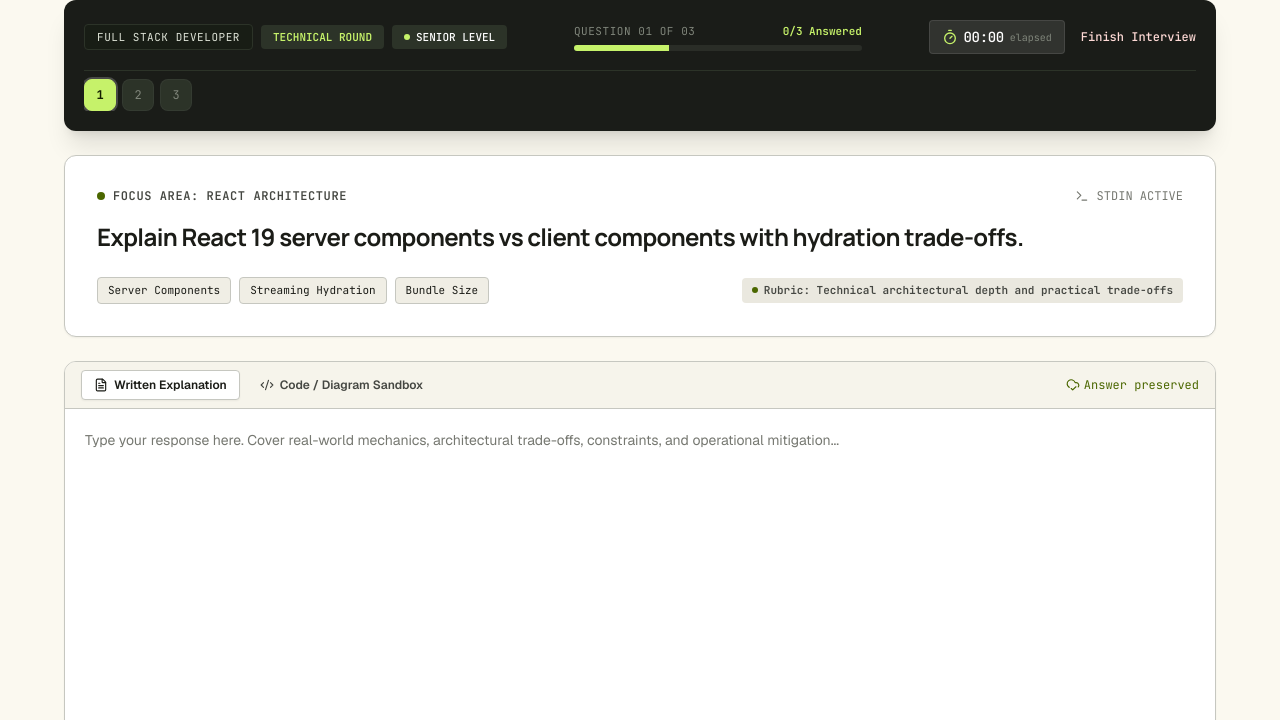
Scenario: TASK 2 & 5: Question Navigation & Text Diversity in InterviewArenaPage › allows direct jumping via numbered question buttons
Expected: the text "Focus Area: React Architecture" is shown, x1=113 y1=188 x2=347 y2=204
// Click button '3' in question selector strip
What coordinates should you click on to do the following:
click the button "3"
I would click on:
 (176, 95)
Its box is x1=160 y1=79 x2=192 y2=111.
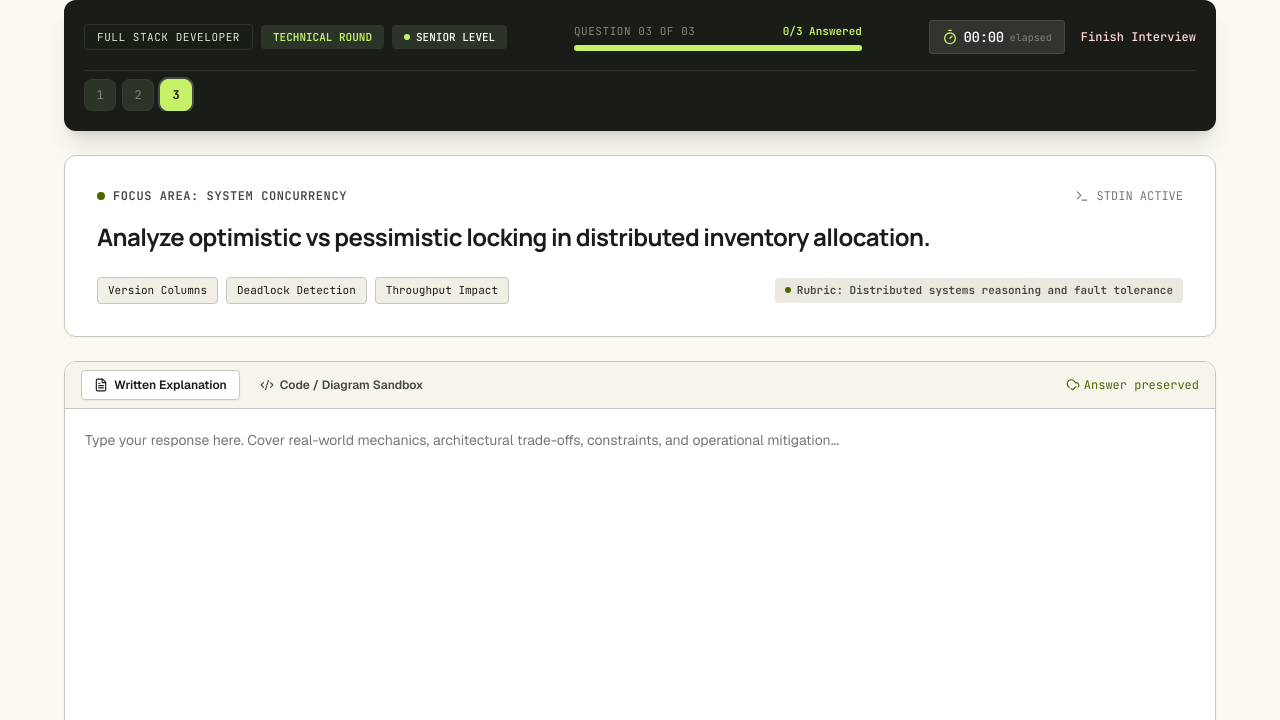
Now the text "Focus Area: System Concurrency" is shown, box x1=113 y1=188 x2=347 y2=204
Now the heading "Analyze optimistic vs pessimistic locking" is shown, box x1=97 y1=220 x2=930 y2=253
Now the text "Version Columns" is shown, box x1=97 y1=277 x2=218 y2=304
